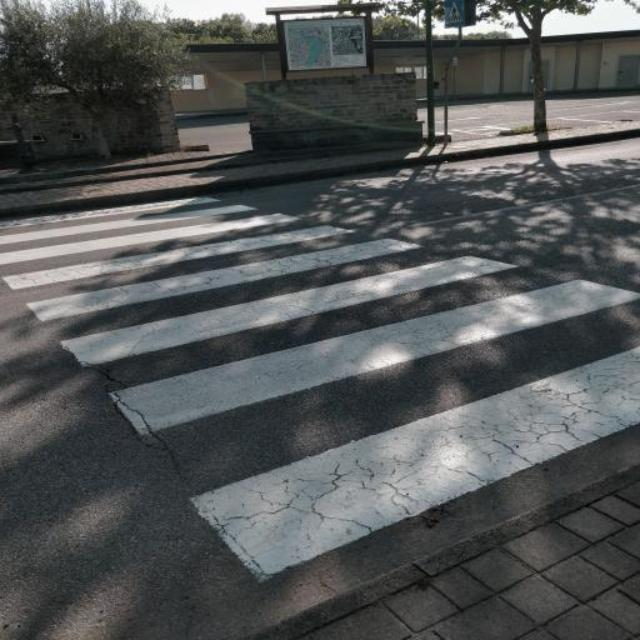sidewalk: (2, 191, 639, 590)
